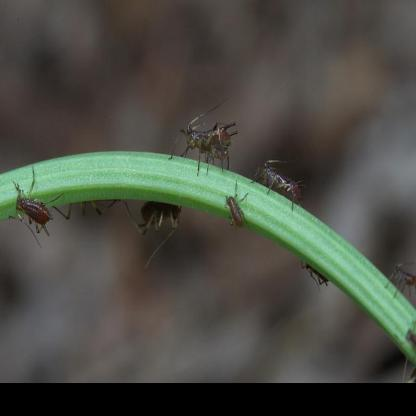aphid: (7, 165, 68, 244), (175, 100, 236, 176), (133, 192, 183, 259), (253, 155, 306, 213), (71, 186, 130, 218), (222, 180, 252, 238), (383, 257, 416, 299), (301, 258, 330, 293)
